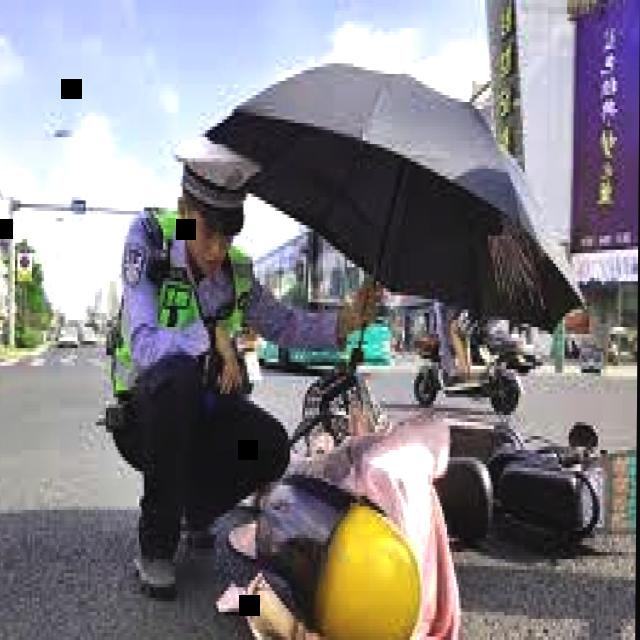Fall-Detected: (210, 398, 492, 640)
